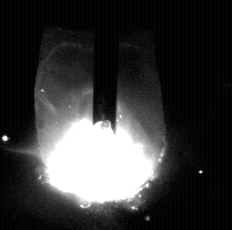arame: (93, 0, 118, 133)
poca: (37, 0, 167, 230)
